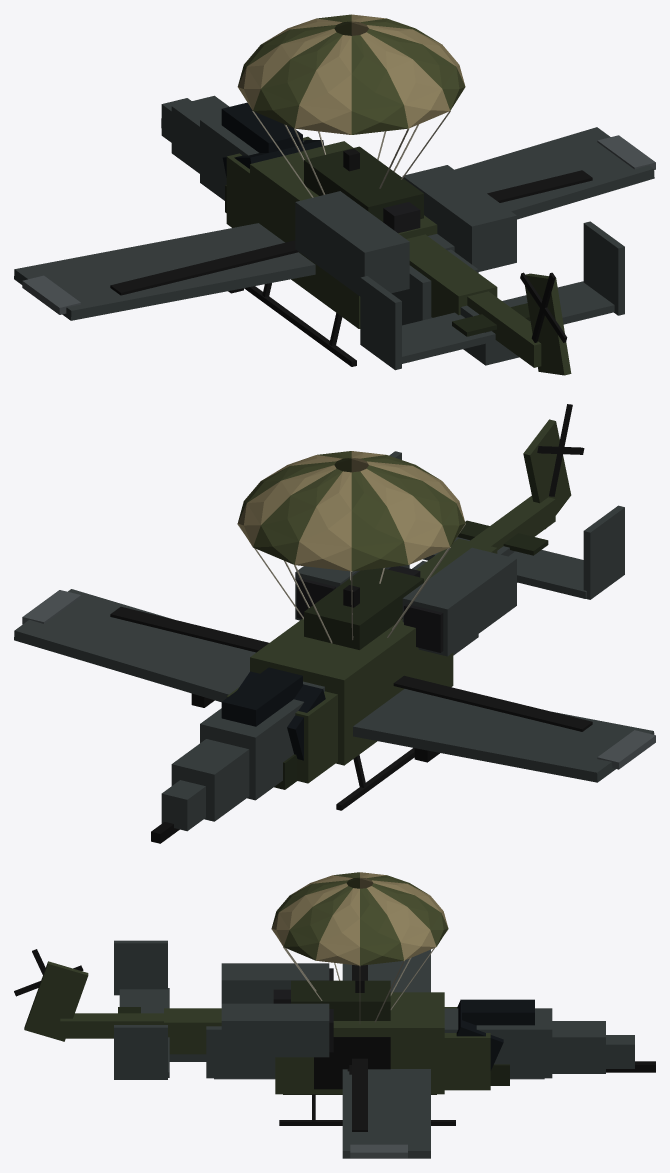
The model's file is airdrop.glb.
3 renders of one model, top to bottom at view 1: azimuth 30°, elevation 25°; view 2: azimuth 150°, elevation 25°; view 3: azimuth 270°, elevation 25°, orthographic. The views are drawn at different scales.
Visible parts, largest first — view 1: Plane, Heli, Chute, Rotor; view 2: Plane, Heli, Chute, Rotor; view 3: Plane, Heli, Chute, Rotor.
Part boxes in pixels (box(x1,y1,x2,y2)): Plane: box(14, 95, 655, 370); Heli: box(222, 136, 571, 375); Chute: box(237, 14, 465, 197); Rotor: box(110, 170, 592, 295); Plane: box(14, 451, 655, 843); Heli: box(226, 404, 584, 810); Chute: box(237, 451, 465, 643); Rotor: box(110, 606, 592, 731); Plane: box(114, 940, 655, 1158); Heli: box(14, 949, 509, 1125); Chute: box(271, 872, 448, 1023); Rotor: box(352, 965, 367, 1131).
Bounding box in the file's own units: 13.9 × 6.41 × 16.7.
